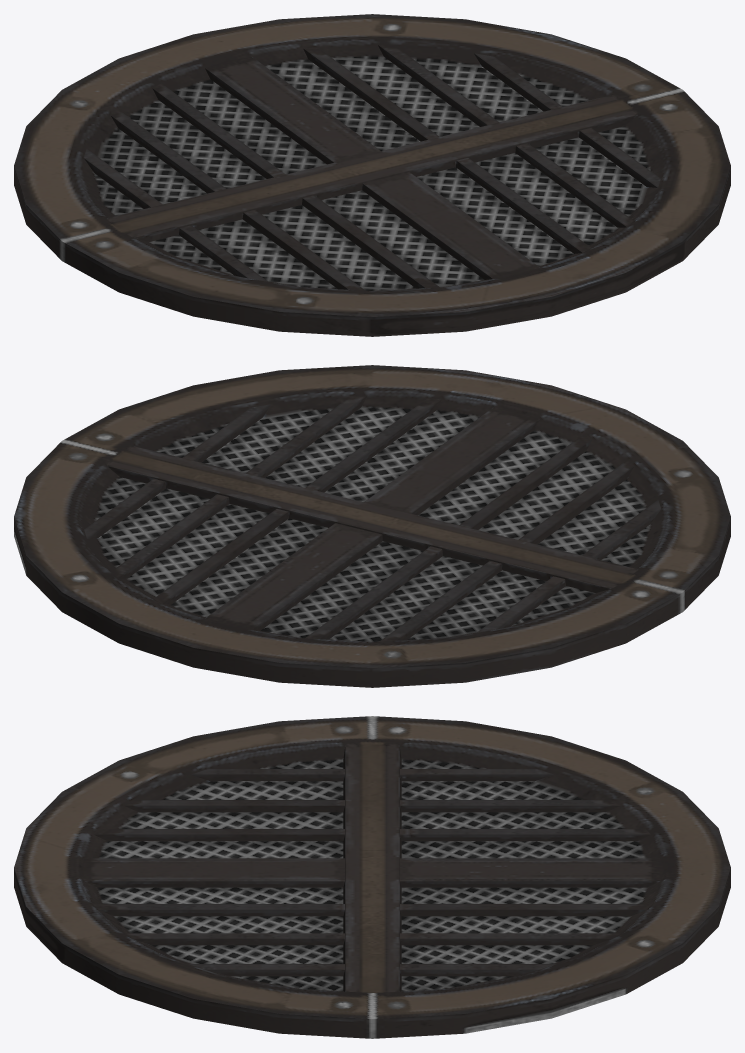
Rendered from CP_Vent_Grate_05.fbx.
The picture shows the model from 3 angles, top to bottom: view 1: azimuth 30°, elevation 25°; view 2: azimuth 150°, elevation 25°; view 3: azimuth 270°, elevation 25°; orthographic projection.
Visible parts, largest first — view 1: CP_Vent_Grate_05_LOD0; view 2: CP_Vent_Grate_05_LOD0; view 3: CP_Vent_Grate_05_LOD0.
Boxes of the visible parts, box(x1,y1,x2,y2) form: CP_Vent_Grate_05_LOD0: box(14, 14, 730, 336); CP_Vent_Grate_05_LOD0: box(14, 365, 730, 687); CP_Vent_Grate_05_LOD0: box(14, 716, 730, 1038).
Size of what is drawn, in the model's own units: 103 by 3.13 by 103.
